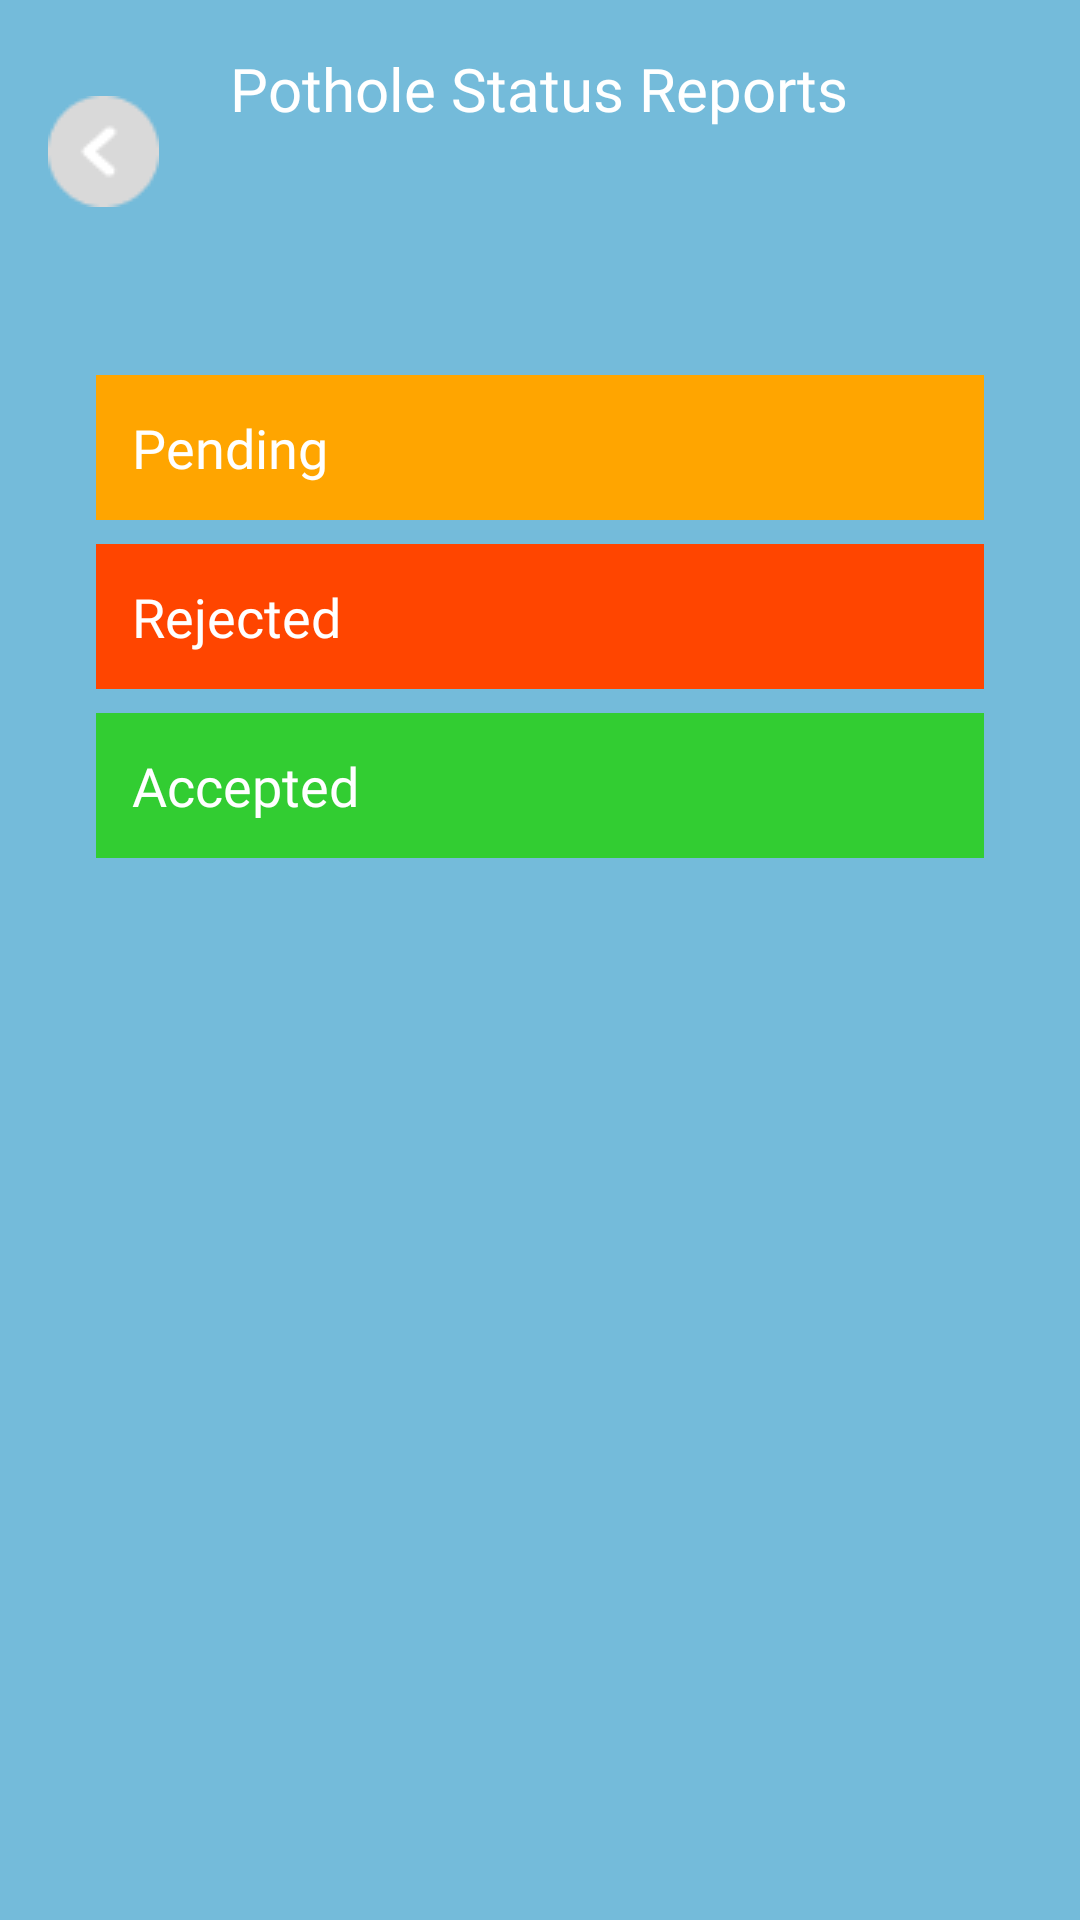

Icon click points for this 1080x1920 phone screenshot, format (x=x, y=y):
report back: (x=103, y=151)
